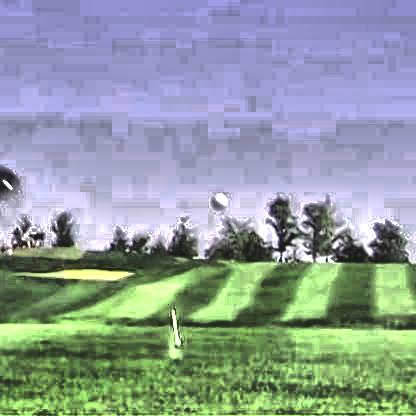golfball: (207, 188, 225, 207)
